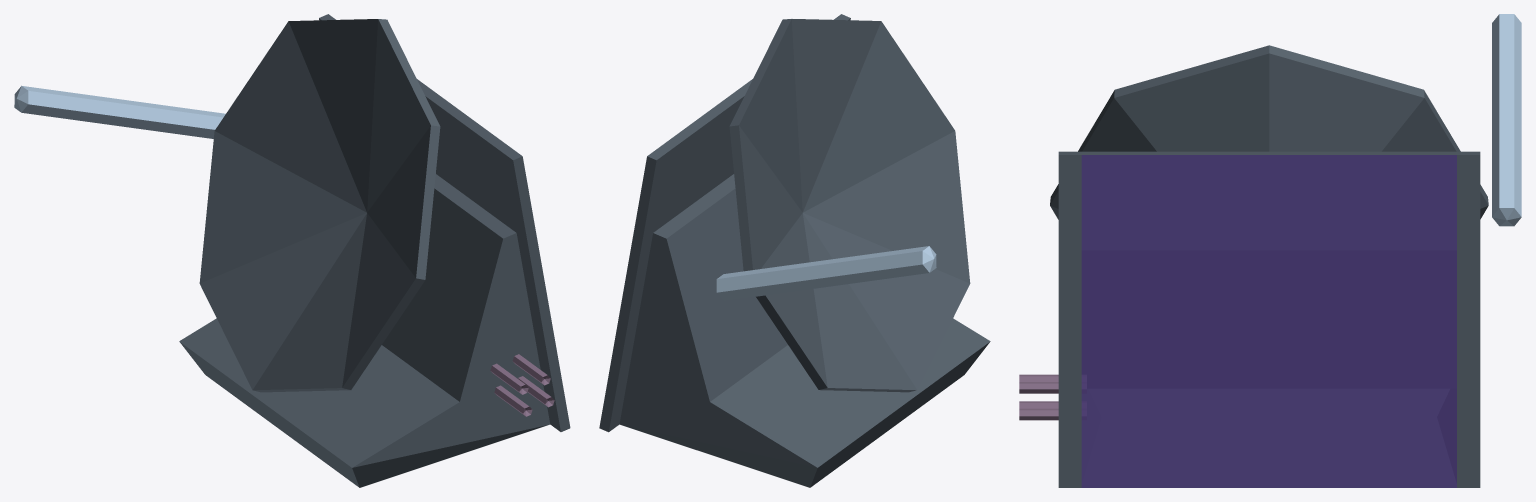
The model's file is Sat-GE-SAR-Lupe.glb.
The picture shows the model from 3 angles, left to right: view 1: azimuth 30°, elevation 25°; view 2: azimuth 150°, elevation 25°; view 3: azimuth 270°, elevation 25°; orthographic projection. The views are drawn at different scales.
Size of the model in its own units: 22.06 by 23.63 by 25.48.
